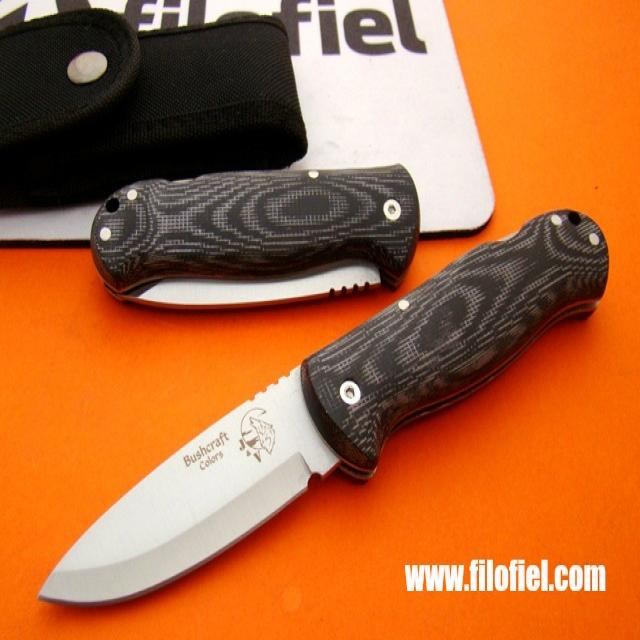knife: (32, 201, 612, 613)
